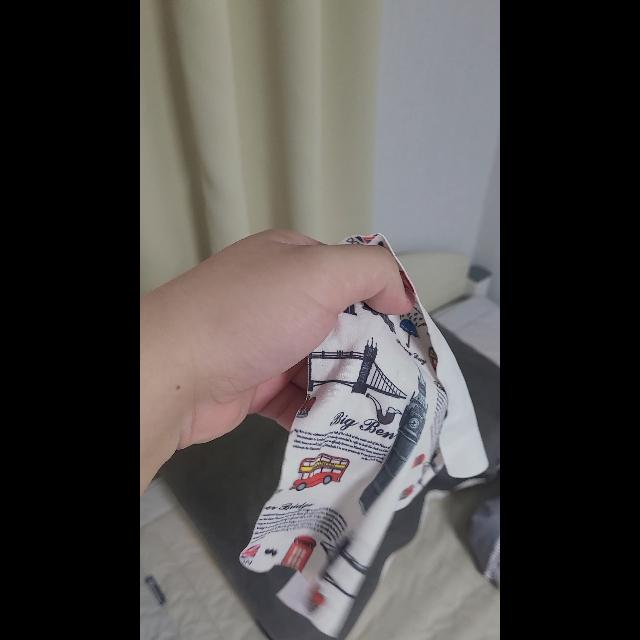Glasses cleaning cloth: (239, 232, 489, 636)
